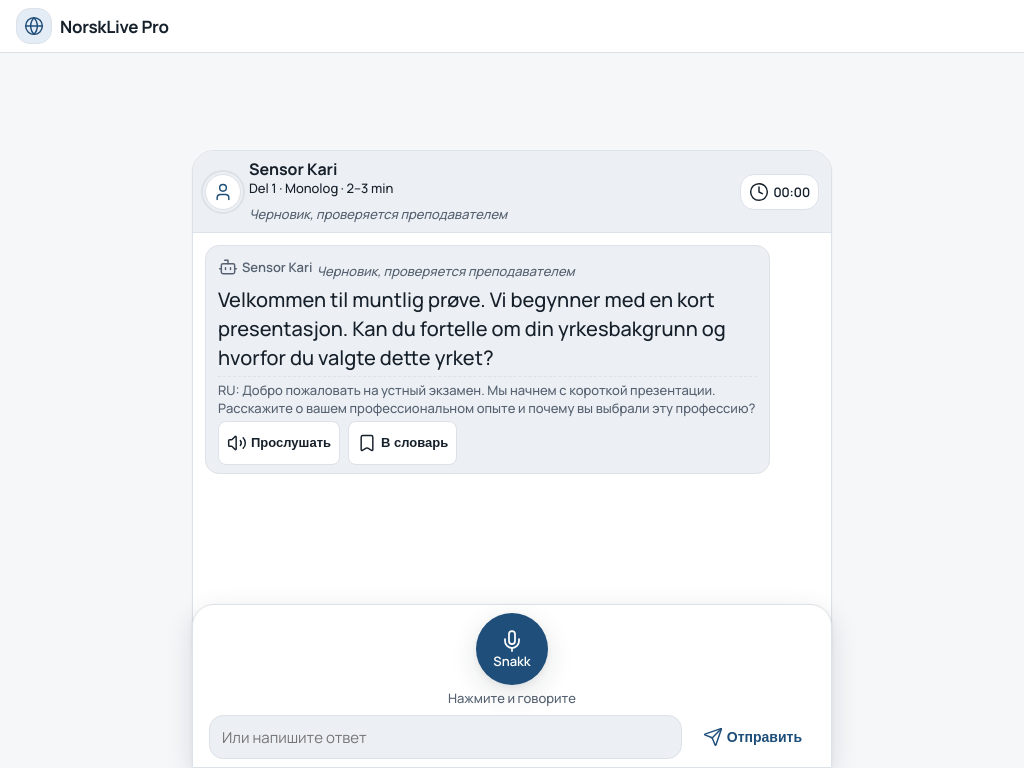
Test: M1c-2 components & flows › Examiner subtitles & «Как ощущения?» on 5th turn › renders CorrectionCard in StudioPage chat right after a learner turn
The width and height of the screenshot is (1024, 768).
Type "Jeg tror hjemmekontor er bra fordi jeg sparer tid." into the field with id "userSpeechInput".
click(445, 737); type("Jeg tror hjemmekontor er bra fordi jeg sparer tid.")  # box [209,715,682,759]
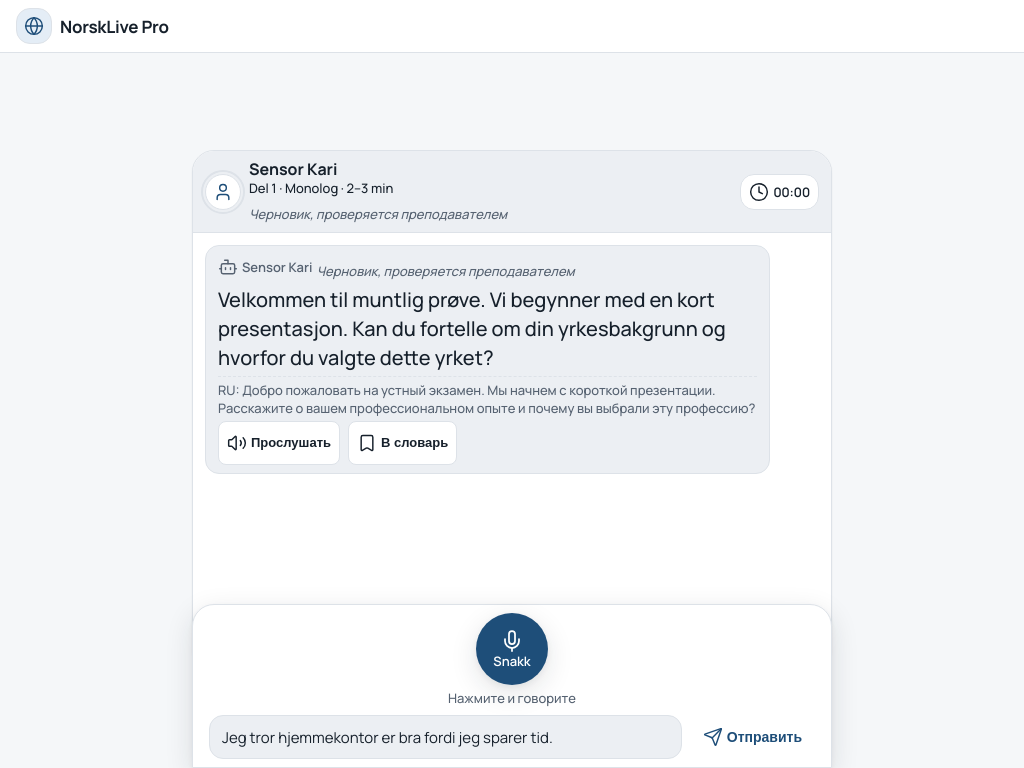
Click the button with id "sendSpeechBtn".
click(752, 737)  # box [690,715,815,759]
(page scrolled)
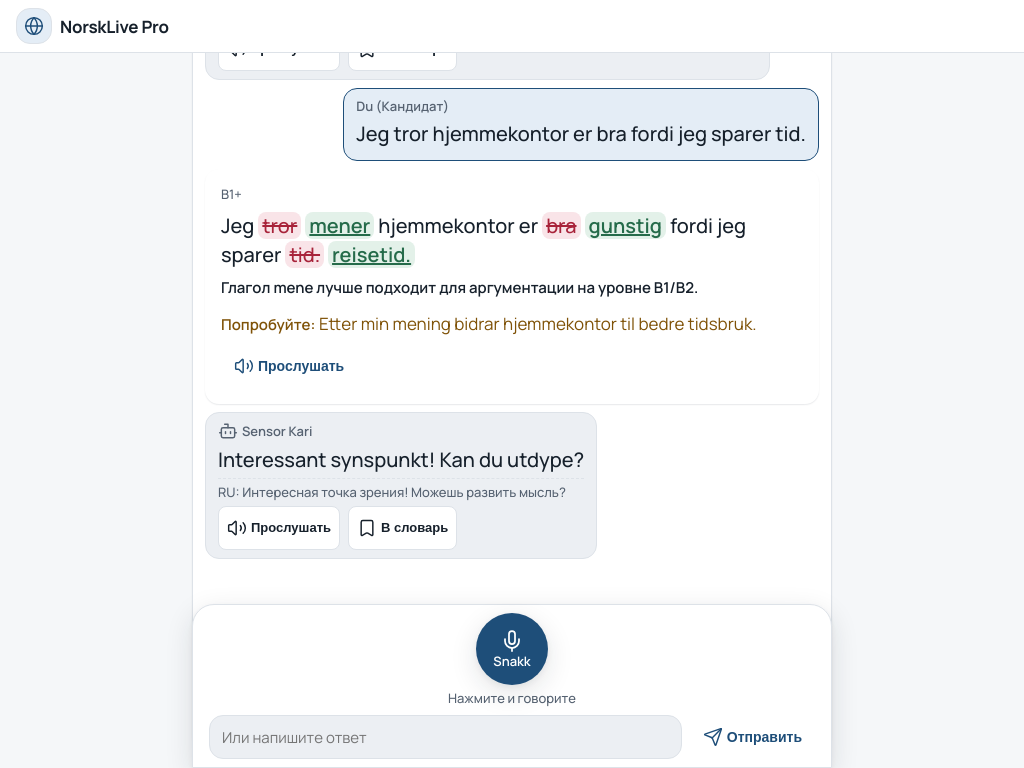
Expected: the element with id "latestCorrectionCard" is shown, [205,169,819,404]
Expected: the text with class "correction-del" reads "tror", [262,212,297,239]
